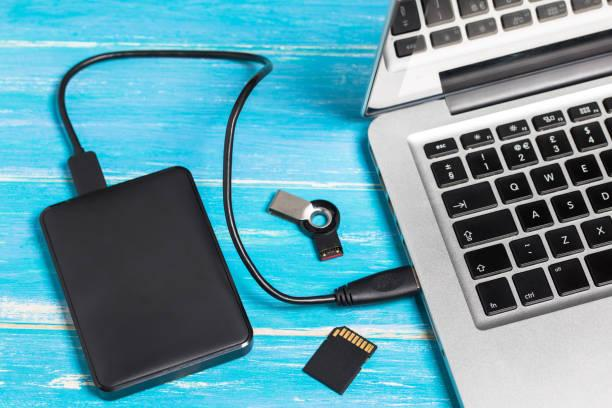HDD: (36, 166, 254, 401)
